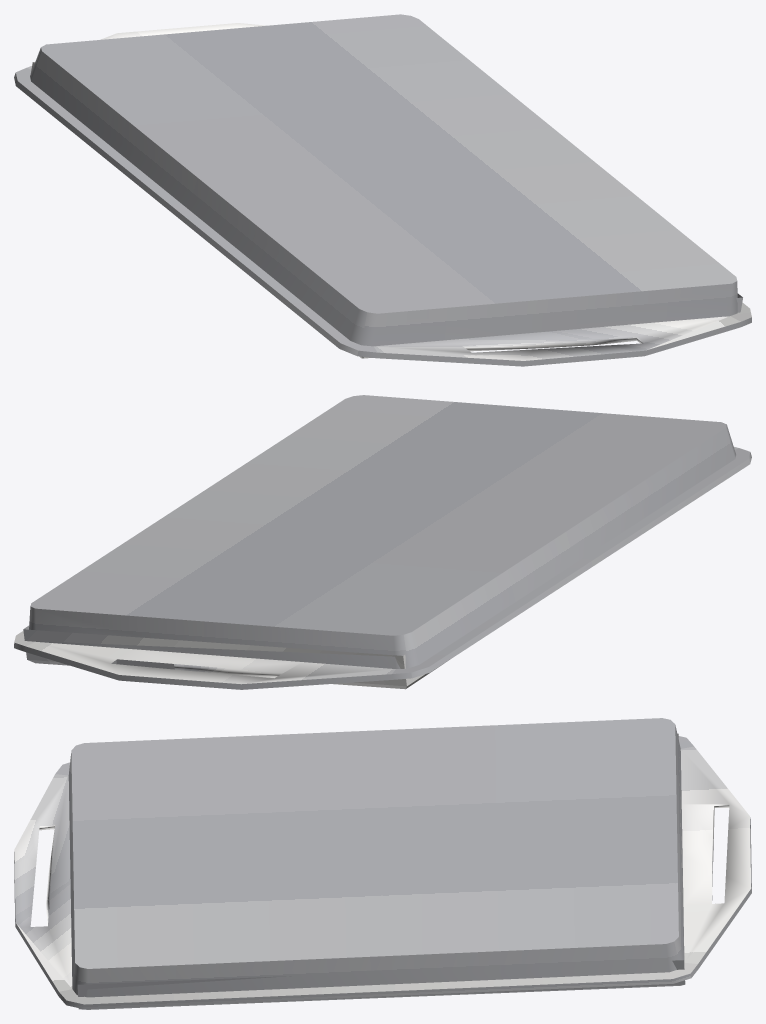
File: H_MessTray_Liquid.fbx
The picture shows the model from 3 angles, top to bottom: view 1: azimuth 30°, elevation 25°; view 2: azimuth 150°, elevation 25°; view 3: azimuth 270°, elevation 25°; orthographic projection. The views are drawn at different scales.
Visible parts, largest first — view 1: MessTray.002; view 2: MessTray.002; view 3: MessTray.002.
Boxes of the visible parts, x1=… form: MessTray.002: x1=14, y1=14, x2=751, y2=366; MessTray.002: x1=14, y1=395, x2=751, y2=689; MessTray.002: x1=14, y1=718, x2=751, y2=1009.
Size of the model in its own units: 46.99 by 14.95 by 79.23.
